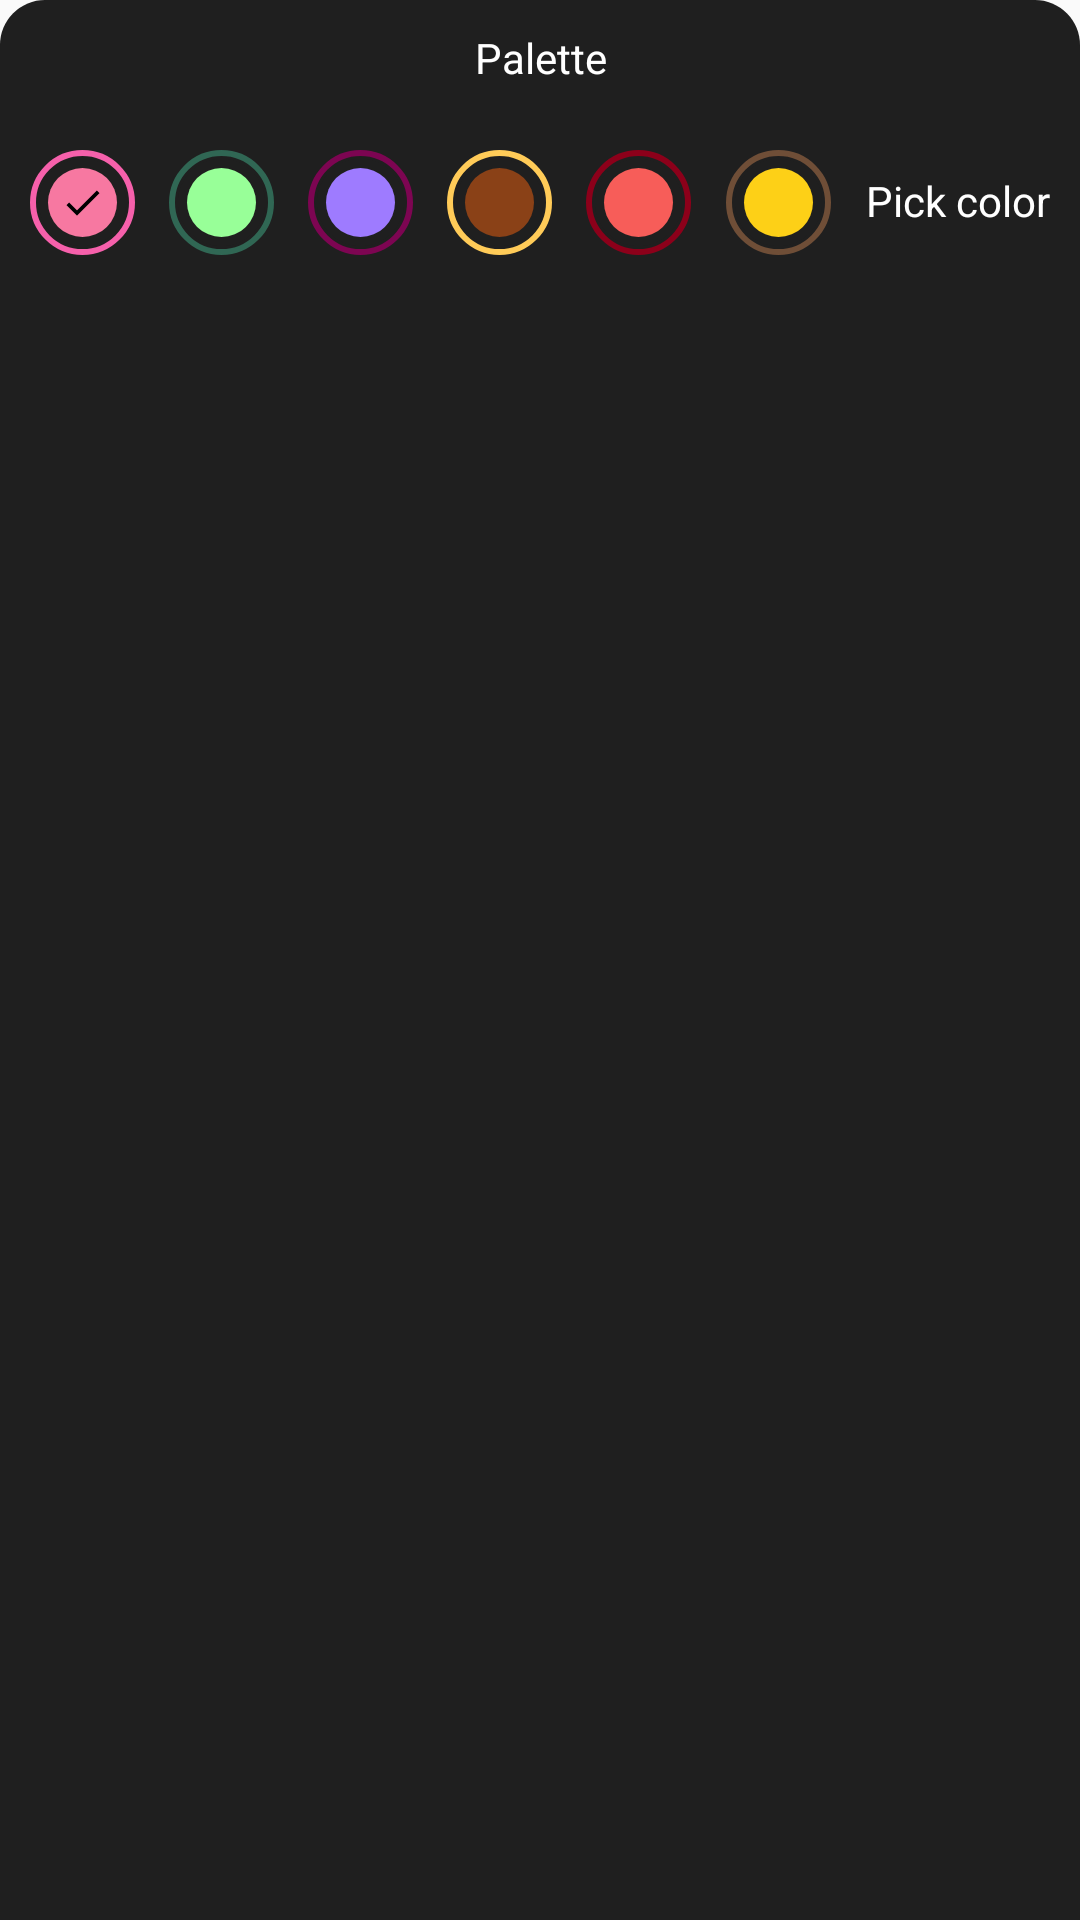

Named icons in this screenshot (1080px×1920px) and their bounding boxes, {"x1": x1, "y1": y1, "x2": x2, "y2": y2}:
done: {"x1": 30, "y1": 150, "x2": 135, "y2": 255}
